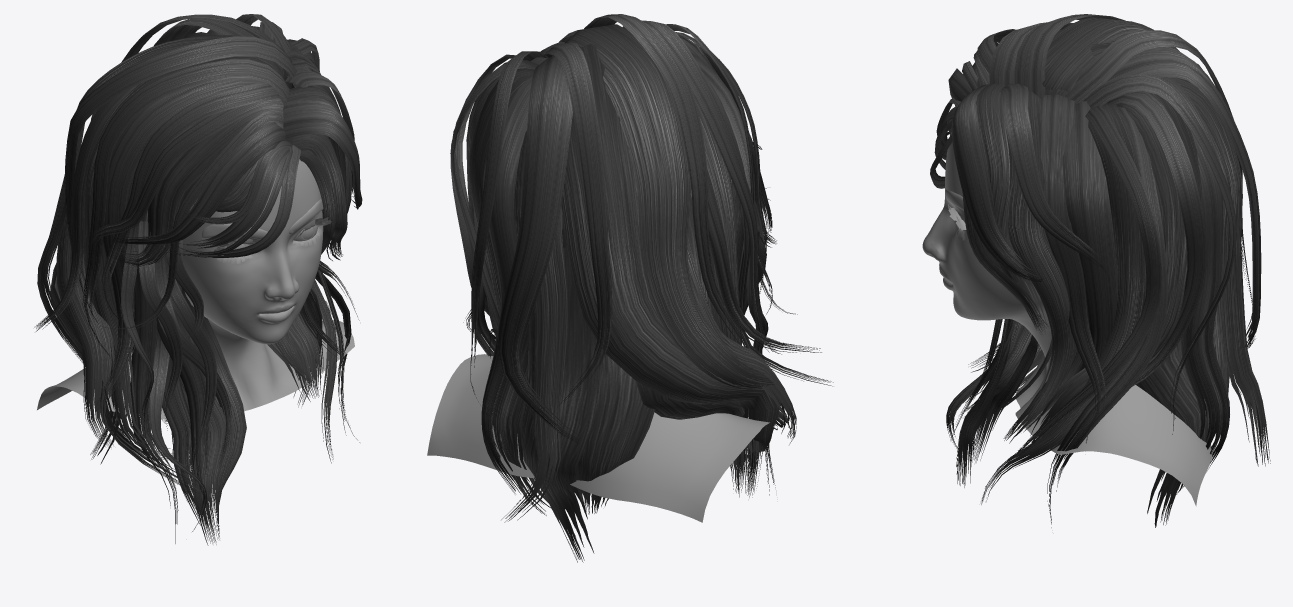
Rendered from Pocolov Hair 06.fbx.
3 views of the same model, side by side, from view 1: azimuth 30°, elevation 25°; view 2: azimuth 150°, elevation 25°; view 3: azimuth 270°, elevation 25° (orthographic). The views are drawn at different scales.
Visible parts, largest first — view 1: Hair_06, Head; view 2: Hair_06, Head; view 3: Hair_06, Head.
Part boxes in pixels (box(x1,y1,x2,y2)): Hair_06: box(34, 14, 362, 545); Head: box(37, 159, 354, 418); Hair_06: box(450, 14, 833, 562); Head: box(427, 180, 769, 522); Hair_06: box(930, 14, 1270, 527); Head: box(922, 132, 1212, 506).
Size of the model in its own units: 31.48 by 42.37 by 26.49.
Materials: 4 (3 with a texture image).
